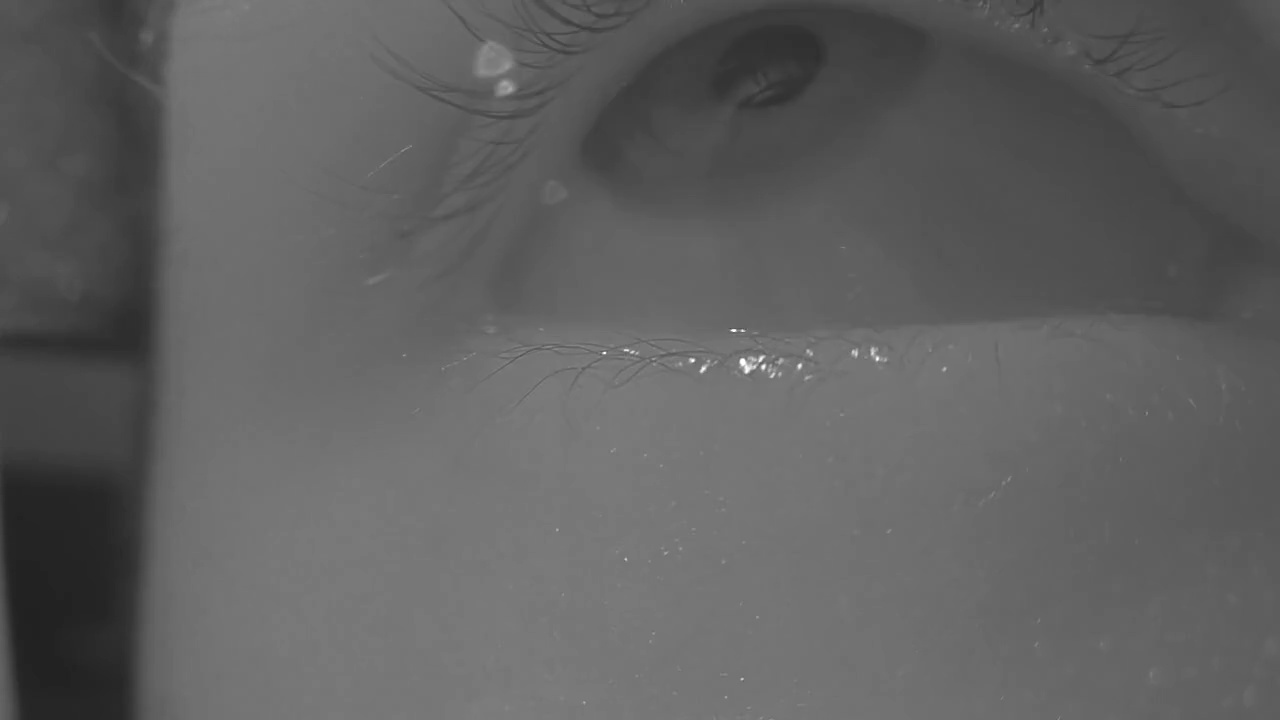pupil: (716, 24, 822, 109)
